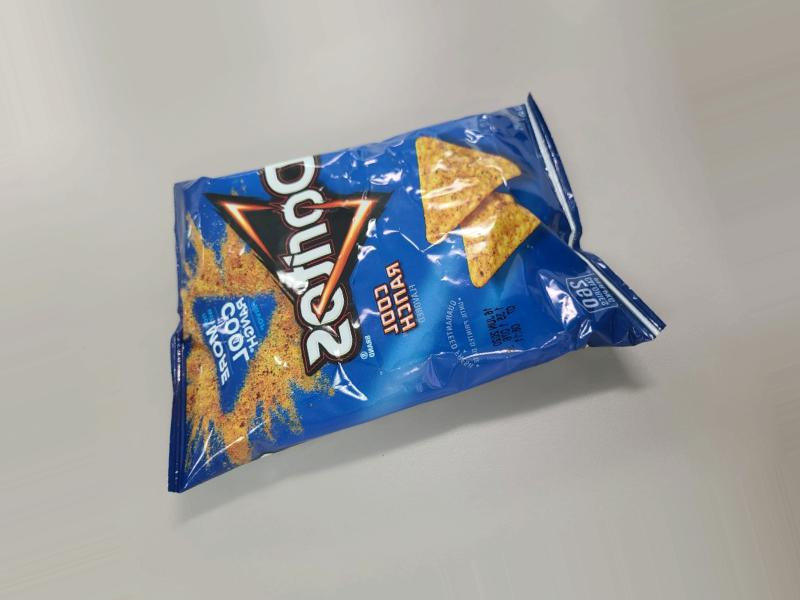doritos: (207, 127, 684, 477)
